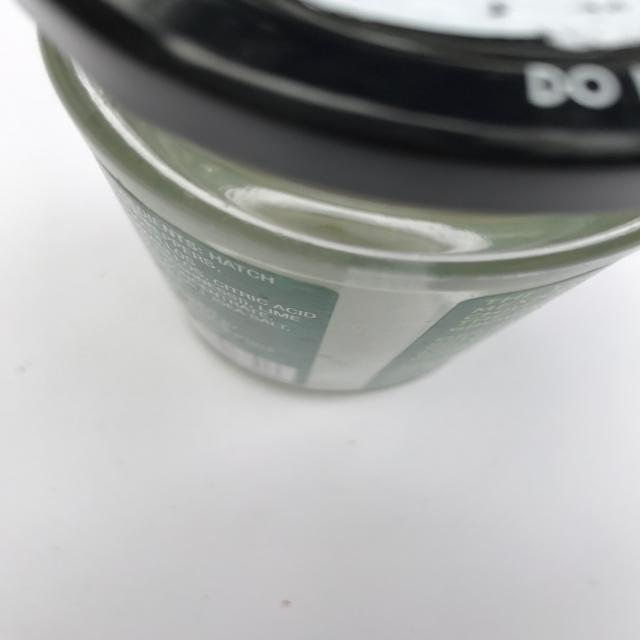glass: (6, 0, 640, 394)
